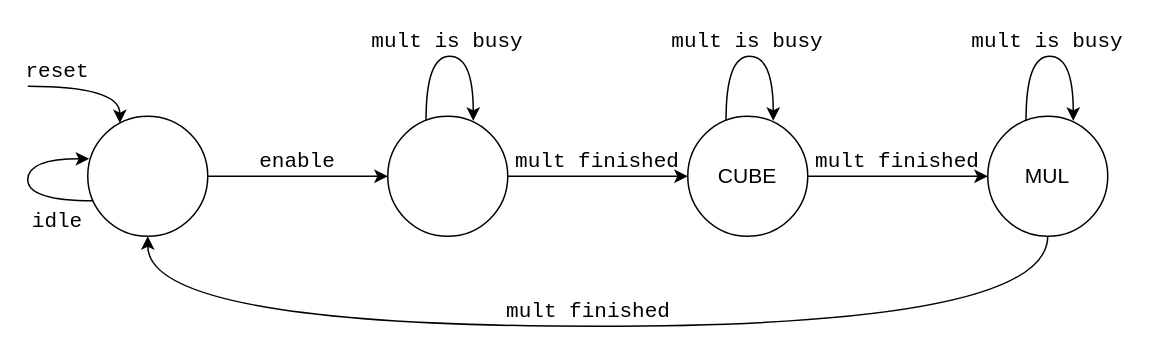
The diagram is 1155 pixels wide and 353 high, and some of its shapes have lost their labels. The centre of each missing label's shape, as x and y in pixels:
READY: the point at 147,175
SQUARE: the point at 447,175
